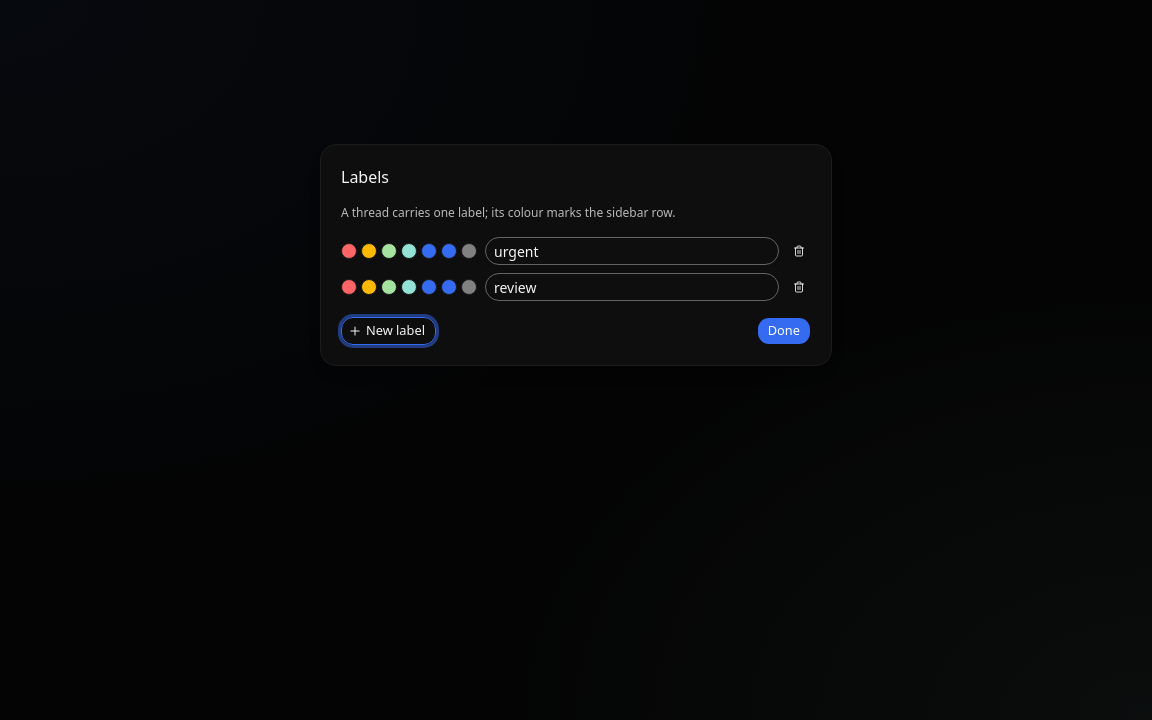
Scenario: other thread dialogs › creates and deletes labels
Expected: the number of list items with test id "label-row" is 2, [341,237,811,265]; [341,273,811,301]
Click the button "New label". click: (388, 331)
box: [341,317,436,345]
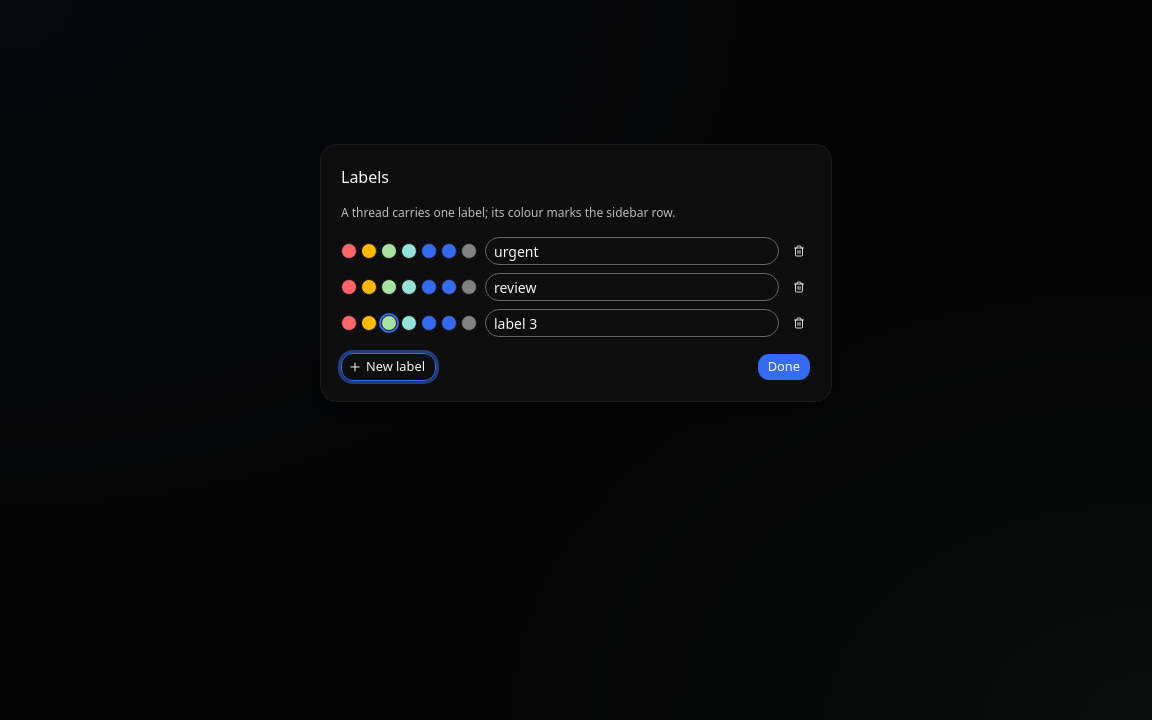
Expected: the number of list items with test id "label-row" is 3, [341,237,811,265]; [341,273,811,301]; [341,309,811,337]
Click the button named "Delete label urgent". click: (799, 251)
box: [787,239,811,263]
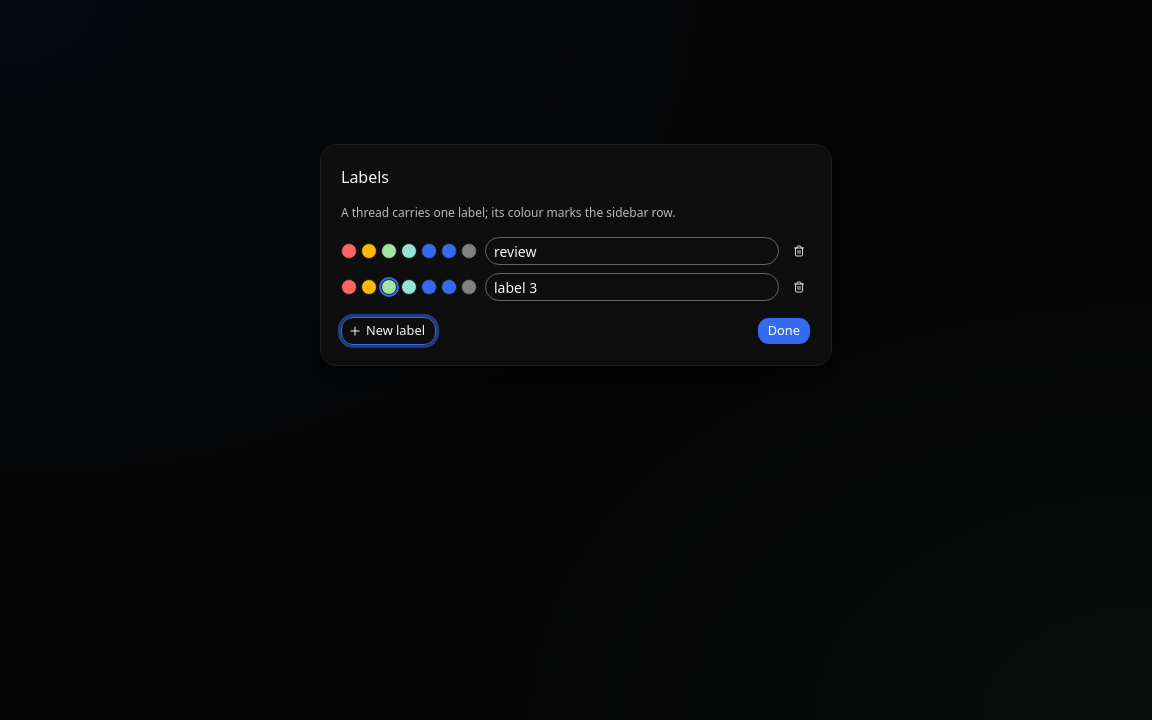
Expected: the number of list items with test id "label-row" is 2, [341,237,811,265]; [341,273,811,301]
